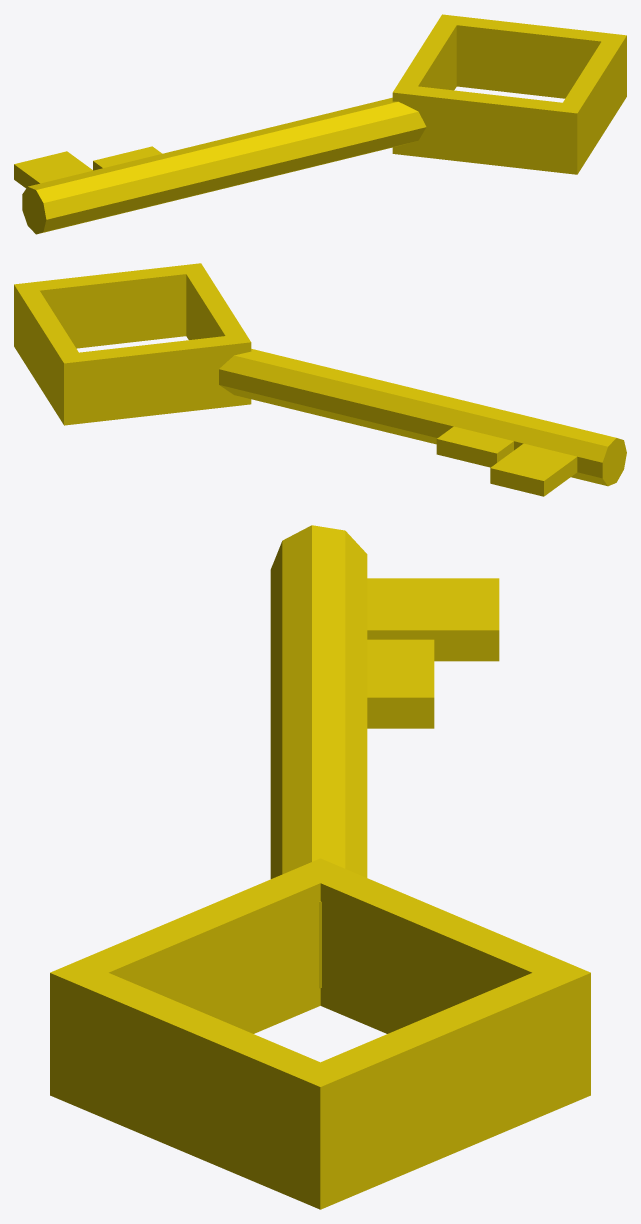
Rendered from Key.fbx.
3 views of the same model, one above another, from view 1: azimuth 30°, elevation 25°; view 2: azimuth 150°, elevation 25°; view 3: azimuth 270°, elevation 25° (orthographic). The views are drawn at different scales.
Parts seen in each view (by area): view 1: Cube.001; view 2: Cube.001; view 3: Cube.001.
Boxes of the visible parts, x1,y1,x2,y2 form: Cube.001: (14,14,626,234); Cube.001: (14,263,626,496); Cube.001: (50,525,590,1209).
Size of the model in its own units: 506 by 50 by 200.
